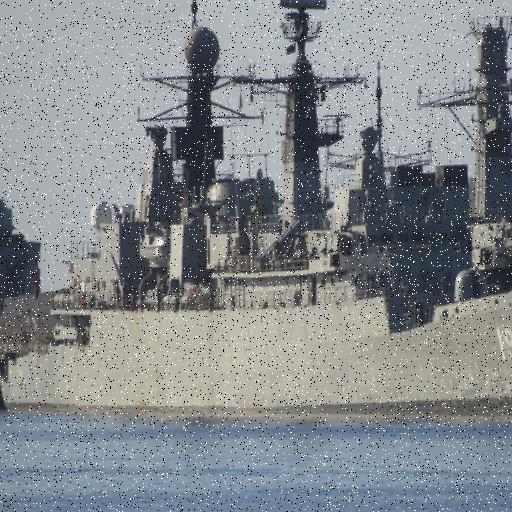Fragata: (1, 23, 512, 423)
